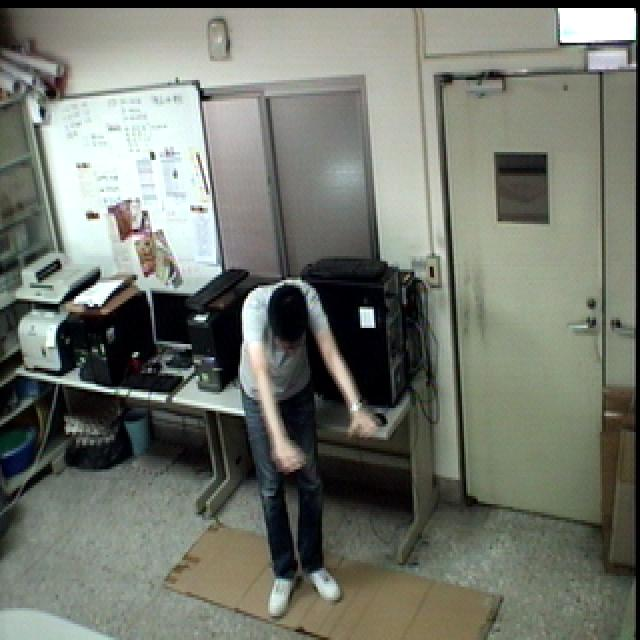bend: (233, 276, 389, 624)
